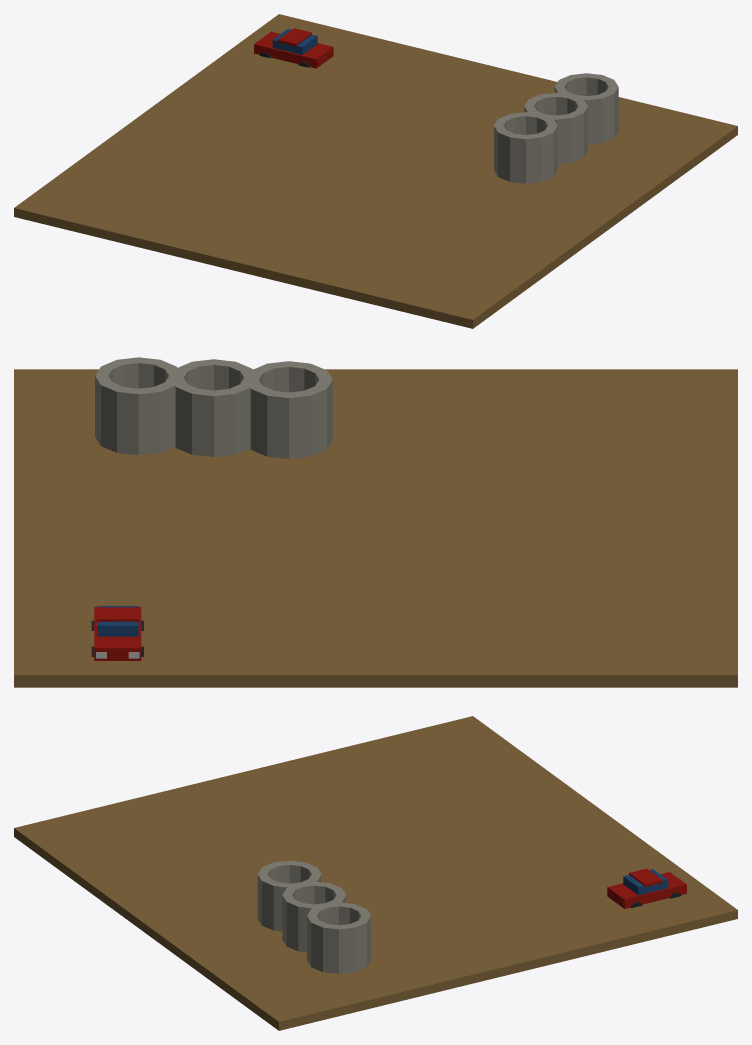
File: suburb3.glb
3 views of the same model, one above another, from view 1: azimuth 30°, elevation 25°; view 2: azimuth 150°, elevation 25°; view 3: azimuth 270°, elevation 25° (orthographic). The views are drawn at different scales.
Parts seen in each view (by area): view 1: suburb3; view 2: suburb3; view 3: suburb3.
Boxes of the visible parts, <box> form: suburb3: <box>14,14,737,328</box>; suburb3: <box>14,357,737,687</box>; suburb3: <box>14,716,737,1030</box>.
Size of the model in its own units: 58.74 by 5 by 58.74.
